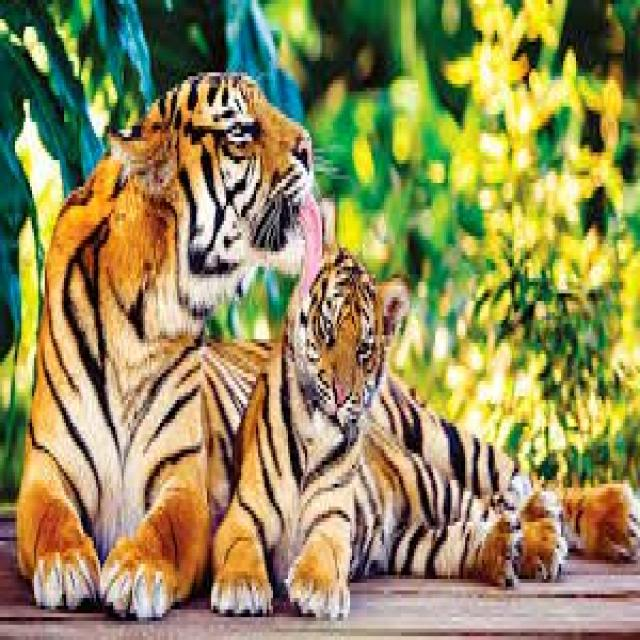tiger: (19, 72, 322, 613), (213, 244, 410, 613)
